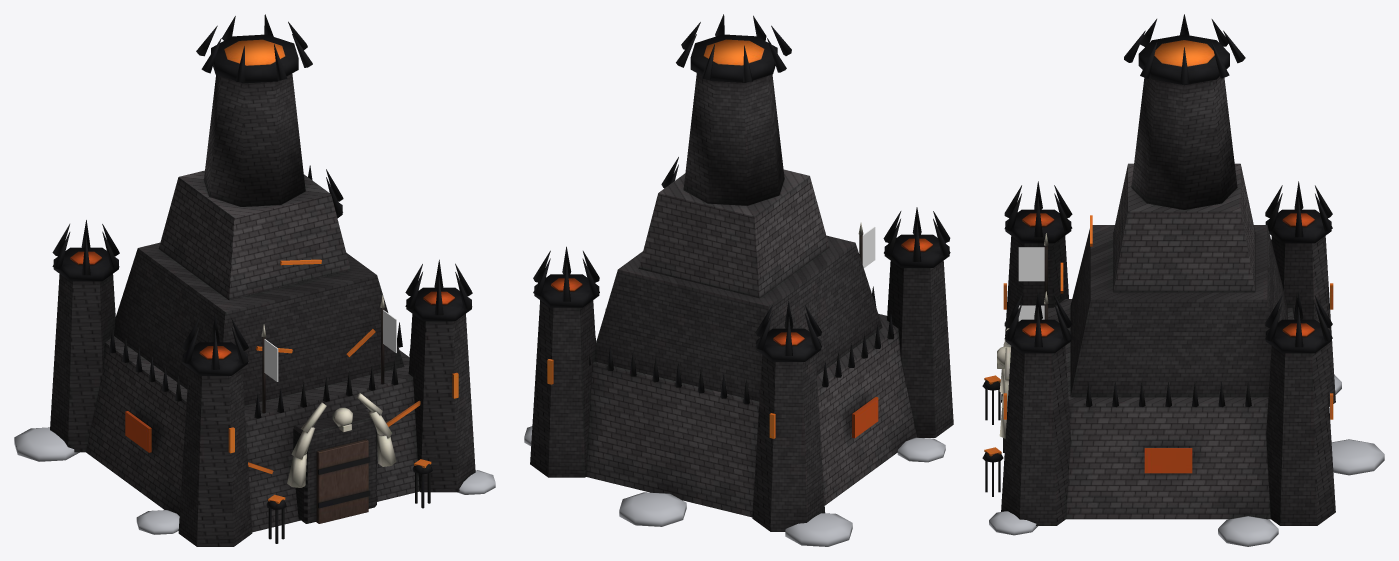
The model's file is asch_hq.glb.
3 views of the same model, side by side, from view 1: azimuth 30°, elevation 25°; view 2: azimuth 150°, elevation 25°; view 3: azimuth 270°, elevation 25° (orthographic).
Visible parts, largest first — view 1: asch_hq, Schnee; view 2: asch_hq, Schnee; view 3: asch_hq, Schnee, Fahne1.
Part boxes in pixels (bbox=[...]): asch_hq: bbox=[50, 14, 475, 546]; Schnee: bbox=[14, 427, 495, 534]; asch_hq: bbox=[530, 14, 953, 531]; Schnee: bbox=[524, 426, 945, 546]; asch_hq: bbox=[982, 14, 1335, 525]; Schnee: bbox=[989, 375, 1384, 546]; Fahne1: bbox=[1018, 247, 1044, 281].
Bounding box in the file's own units: 7.74 × 9.07 × 7.57.
Materials: 3 (1 with a texture image).
